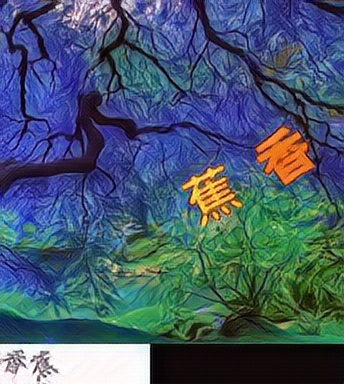BDB6: (180, 162, 243, 228)
CFE3: (254, 120, 317, 186)
